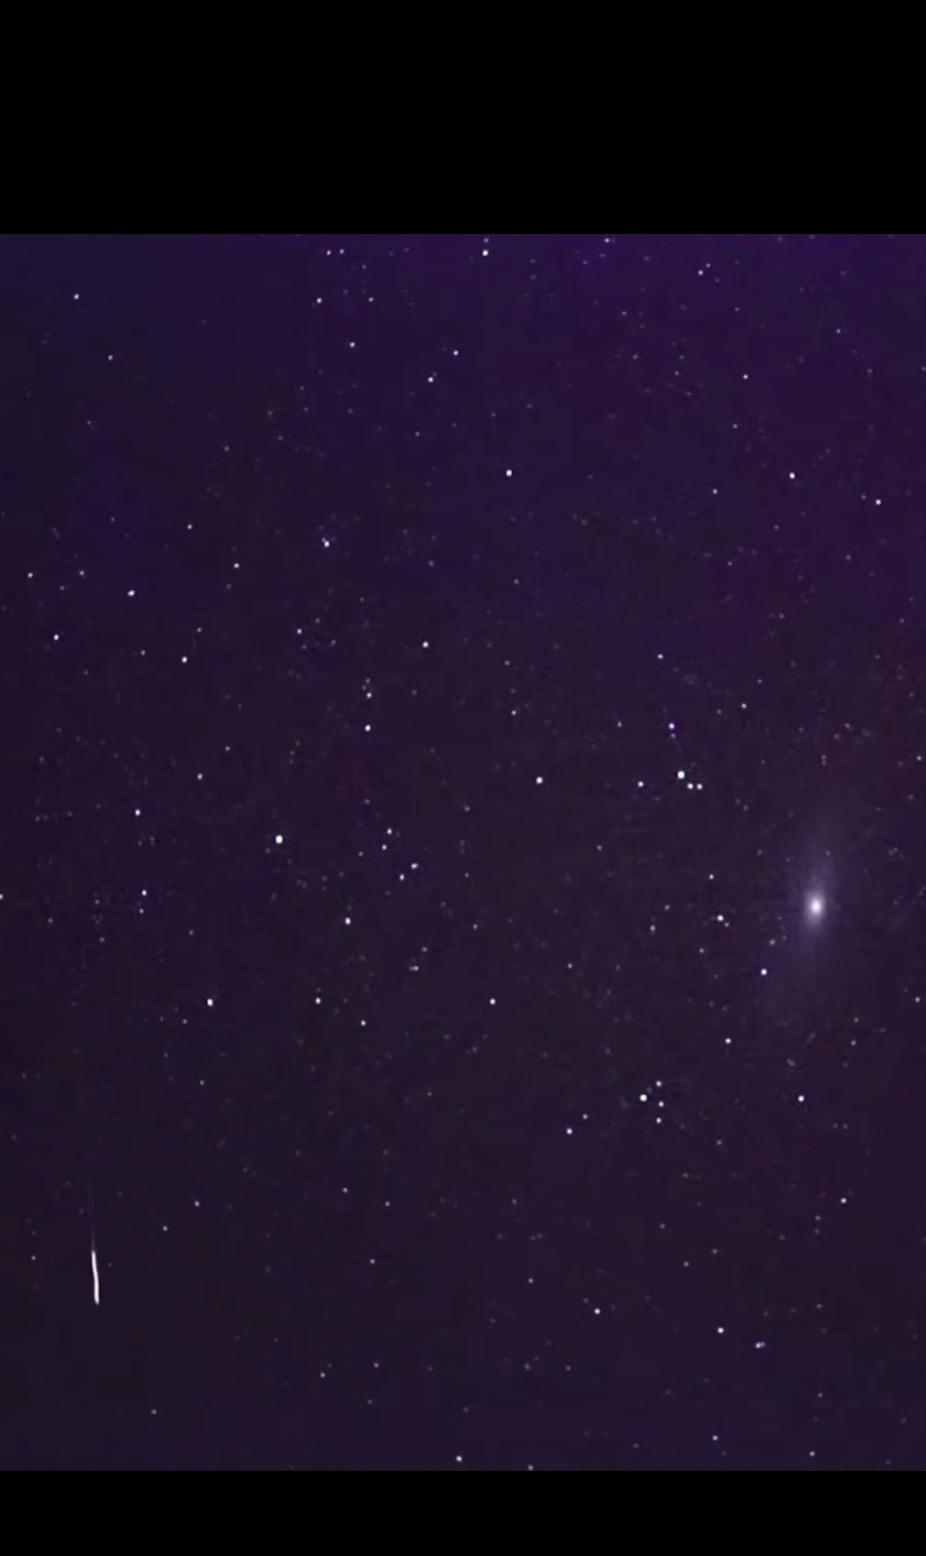meteorite: (72, 1224, 121, 1325)
